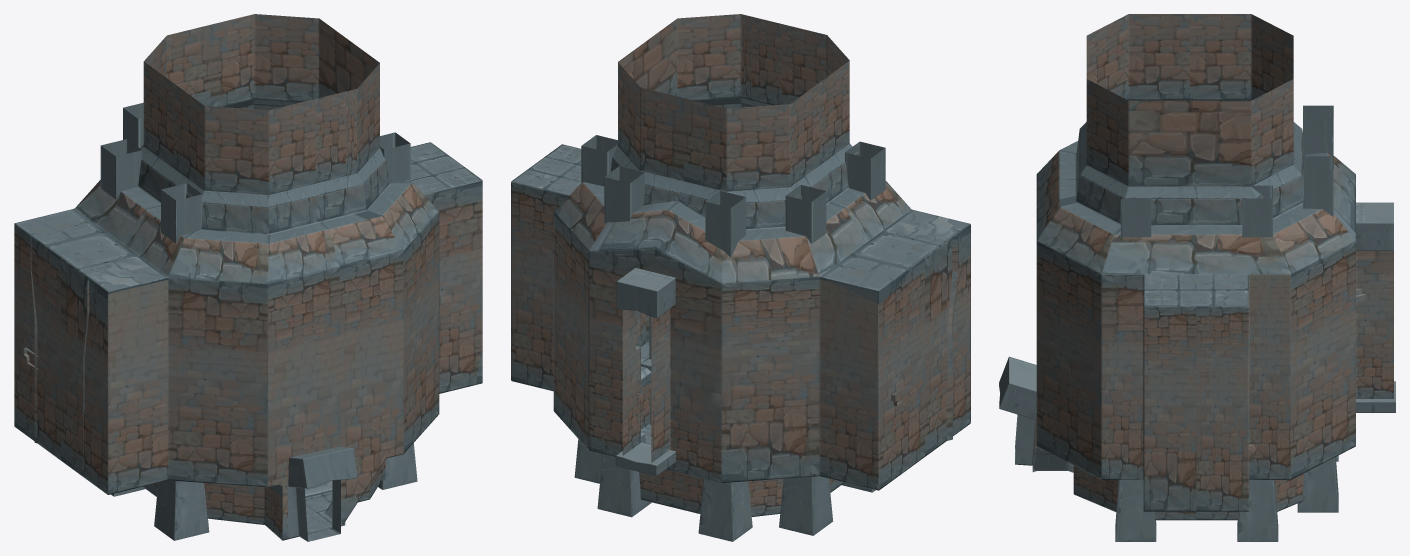
The picture shows the model from 3 angles, left to right: view 1: azimuth 30°, elevation 25°; view 2: azimuth 150°, elevation 25°; view 3: azimuth 270°, elevation 25°; orthographic projection. The views are drawn at different scales.
Parts seen in each view (by area): view 1: Room, Pillars, PassageBlock2, RoomWall; view 2: Room, Pillars, PassageBlock0, RoomWall, RoomAdditions, PassageBlock1; view 3: Room, Pillars, PassageBlock2, PassageBlock0, PassageBlock1.
Part boxes in pixels (x1=…): Room: x1=14, y1=14, x2=482, y2=541; Pillars: x1=100, y1=102, x2=417, y2=540; PassageBlock2: x1=288, y1=446, x2=357, y2=488; RoomWall: x1=30, y1=236, x2=89, y2=476; Room: x1=511, y1=14, x2=970, y2=516; Pillars: x1=574, y1=135, x2=885, y2=541; PassageBlock0: x1=616, y1=268, x2=675, y2=317; RoomWall: x1=896, y1=237, x2=957, y2=440; RoomAdditions: x1=631, y1=268, x2=910, y2=409; PassageBlock1: x1=615, y1=442, x2=675, y2=476; Room: x1=1015, y1=14, x2=1393, y2=520; Pillars: x1=1115, y1=105, x2=1338, y2=541; PassageBlock2: x1=999, y1=356, x2=1036, y2=419; PassageBlock0: x1=1356, y1=202, x2=1393, y2=250; PassageBlock1: x1=1356, y1=381, x2=1395, y2=412.
Size of the model in its own units: 3045 by 3070 by 2591.
1 material, 1 textured.
